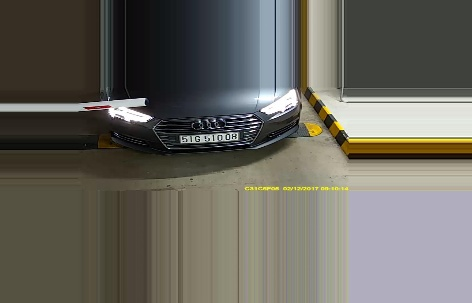plate: (178, 130, 240, 142)
